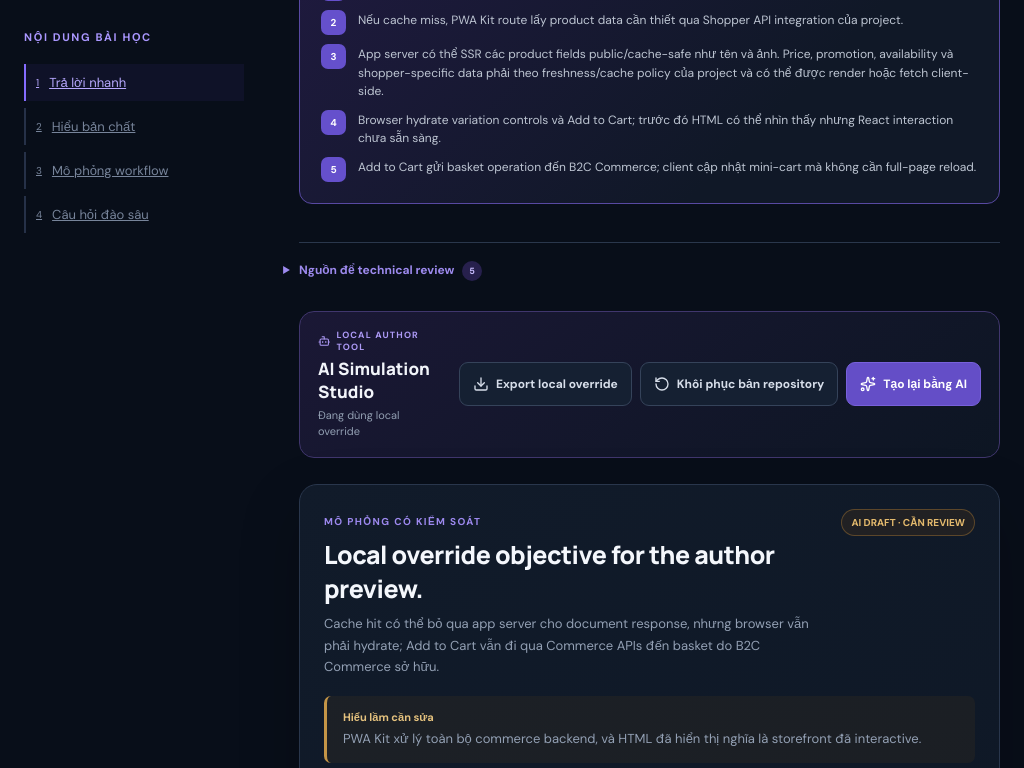
Test case: rich lesson experience › loads a validated local simulation override and restores the repository version
Expected: the text "Đang dùng local override" is shown, [318, 408, 400, 438]
Expected: the heading "Local override objective for the author preview." is shown, [324, 538, 817, 605]
Click the button "Khôi phục bản repository" at (739, 384), box [640, 362, 838, 406]
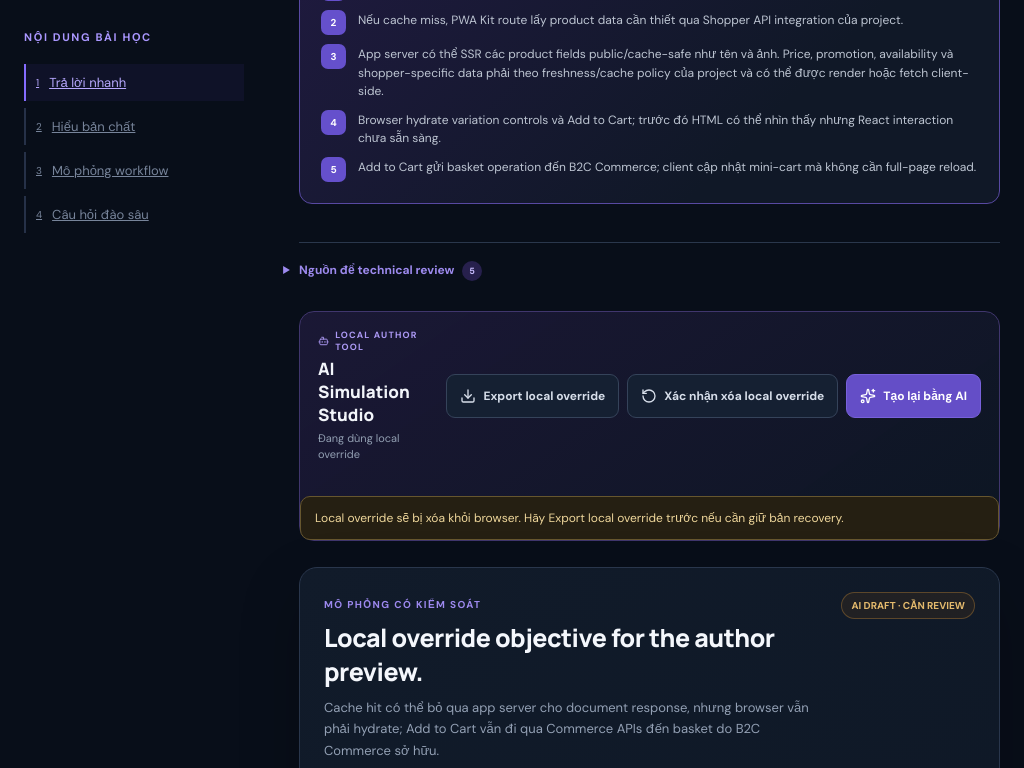
Click the button "Xác nhận xóa local override" at (733, 396), box [627, 374, 838, 418]
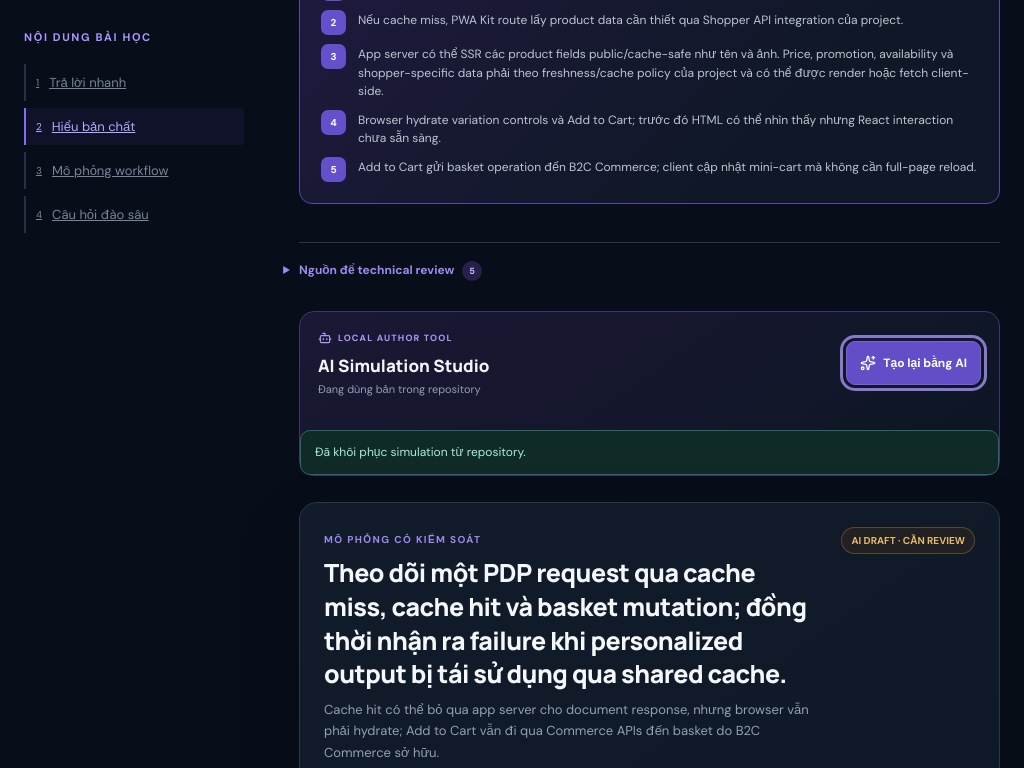
Result: the text "Đang dùng bản trong repository" is shown at [318, 381, 489, 397]
